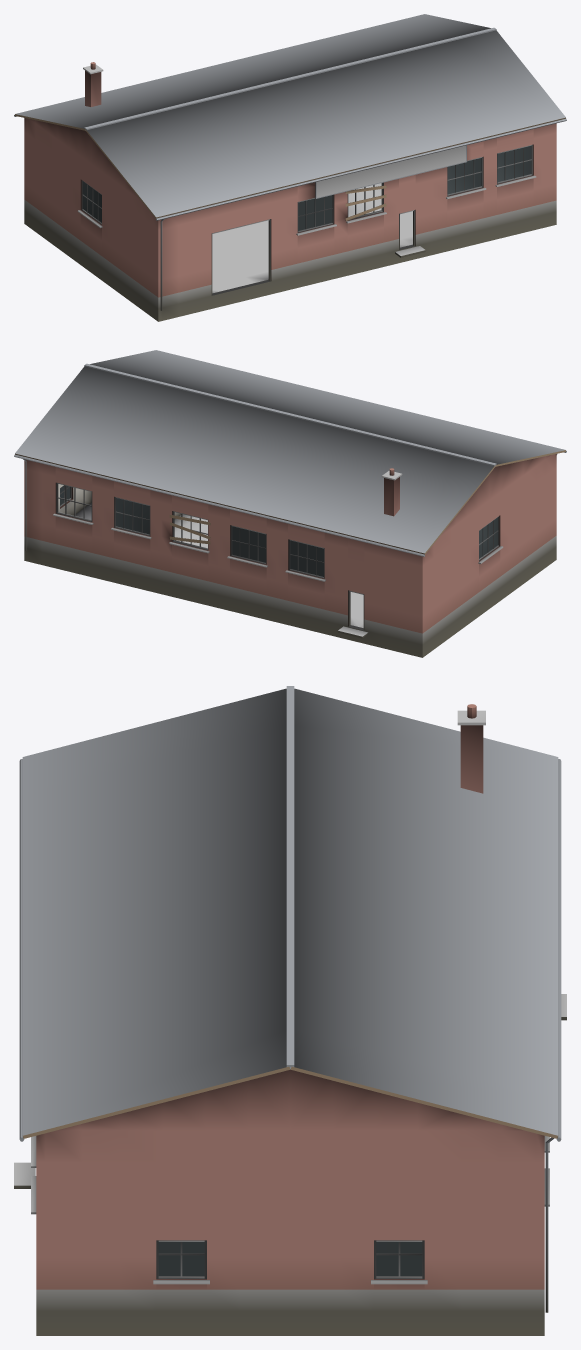
File: factory.glb
3 views of the same model, one above another, from view 1: azimuth 30°, elevation 25°; view 2: azimuth 150°, elevation 25°; view 3: azimuth 270°, elevation 25° (orthographic). The views are drawn at different scales.
Parts seen in each view (by area): view 1: factory; view 2: factory; view 3: factory.
Part boxes in pixels (x1=…): factory: x1=14, y1=14, x2=566, y2=321; factory: x1=14, y1=350, x2=566, y2=657; factory: x1=14, y1=686, x2=566, y2=1335.
Bounding box in the file's own units: 24.7 × 9.36 × 15.24.
